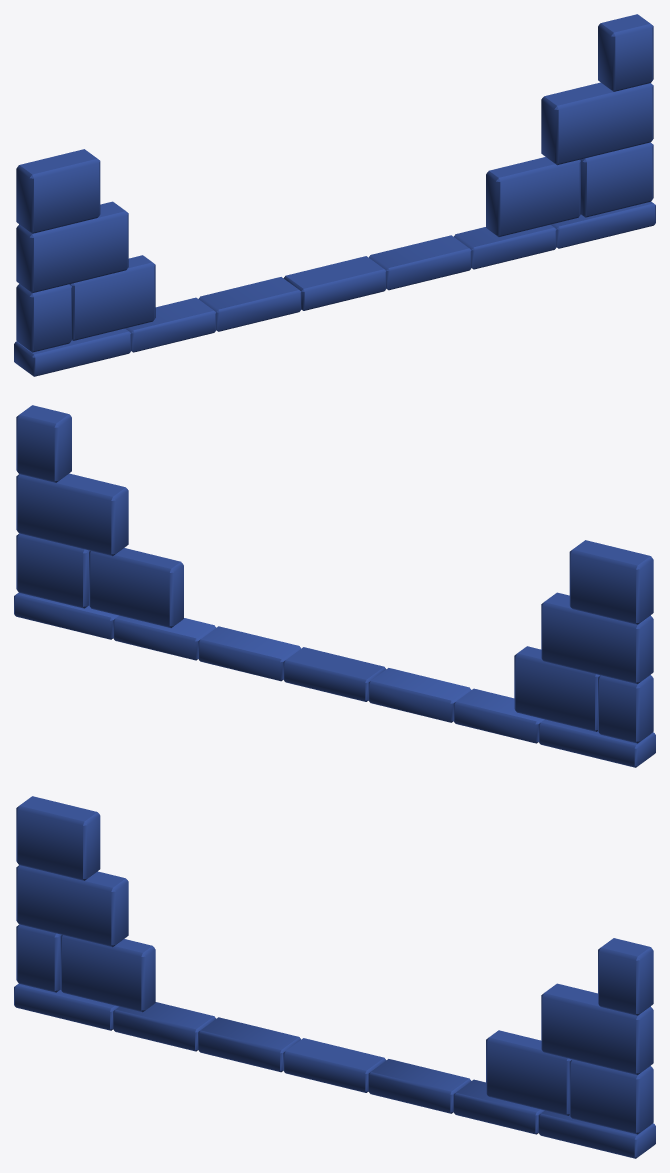
File: wall_btm.fbx
The picture shows the model from 3 angles, top to bottom: view 1: azimuth 30°, elevation 25°; view 2: azimuth 150°, elevation 25°; view 3: azimuth 330°, elevation 25°; orthographic projection.
Parts seen in each view (by area): view 1: wall_btm; view 2: wall_btm; view 3: wall_btm.
Boxes of the visible parts, <box> form: wall_btm: <box>14,14,655,376</box>; wall_btm: <box>14,405,655,767</box>; wall_btm: <box>14,796,655,1158</box>.
Bounding box in the file's own units: 173 × 53.15 × 9.84.
